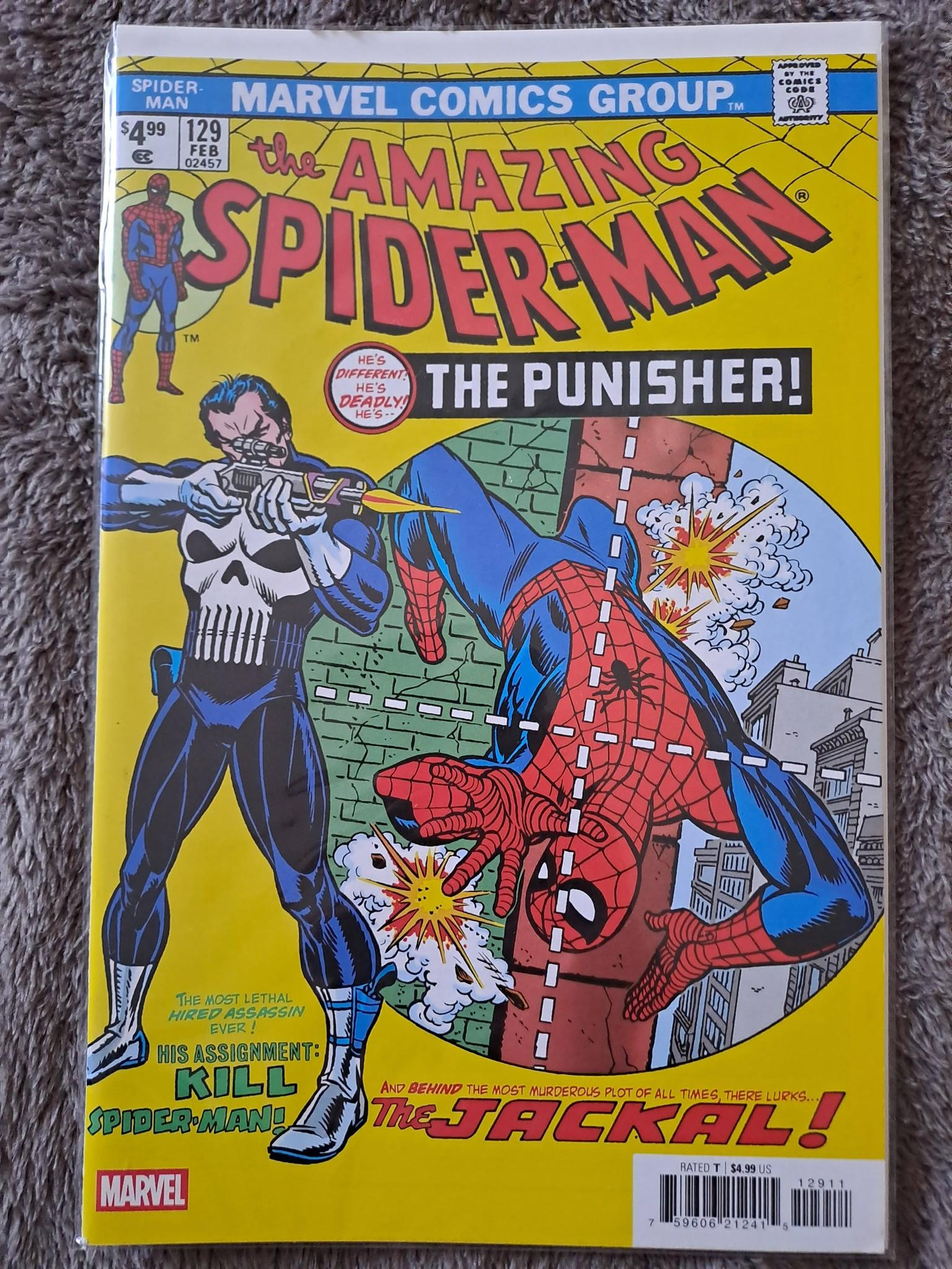comic: (83, 24, 888, 1251)
